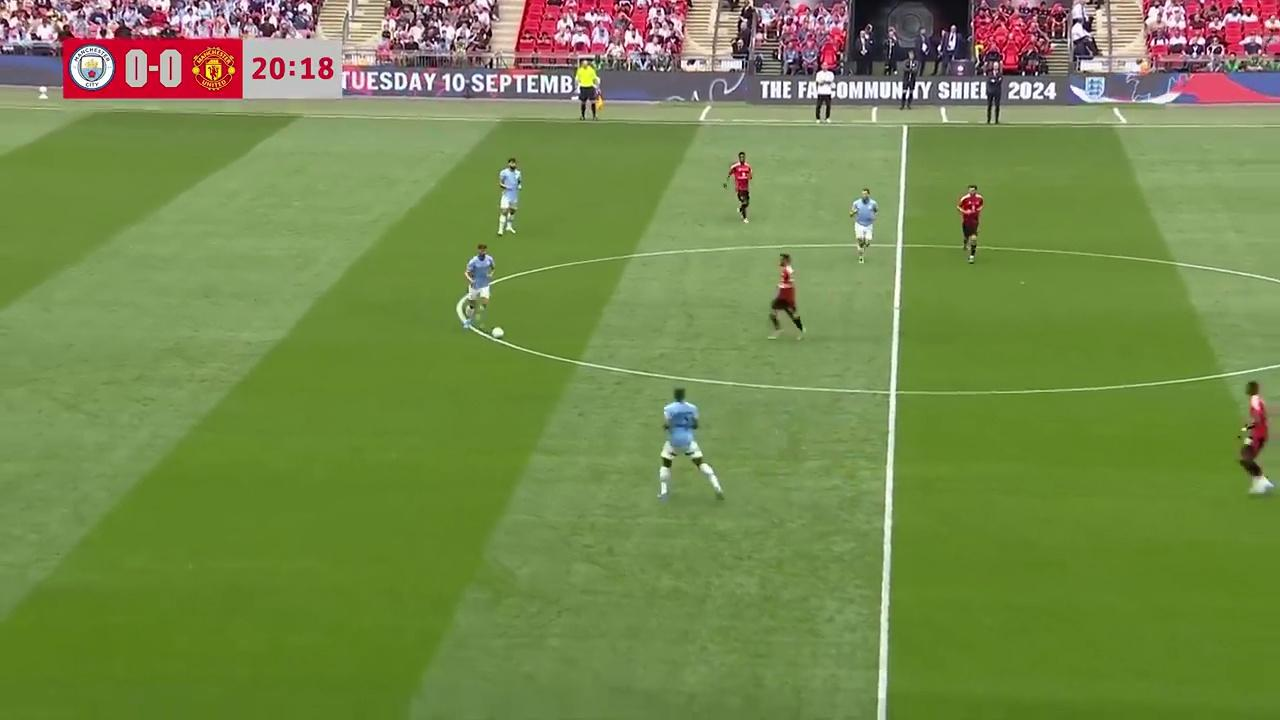ball: (491, 323, 506, 338)
player: (658, 386, 724, 503), (1237, 379, 1277, 495), (456, 243, 495, 334), (767, 252, 806, 340), (849, 187, 878, 262), (956, 184, 983, 263), (497, 157, 522, 236), (725, 151, 752, 222)
referee: (956, 184, 983, 263), (577, 63, 603, 121)
